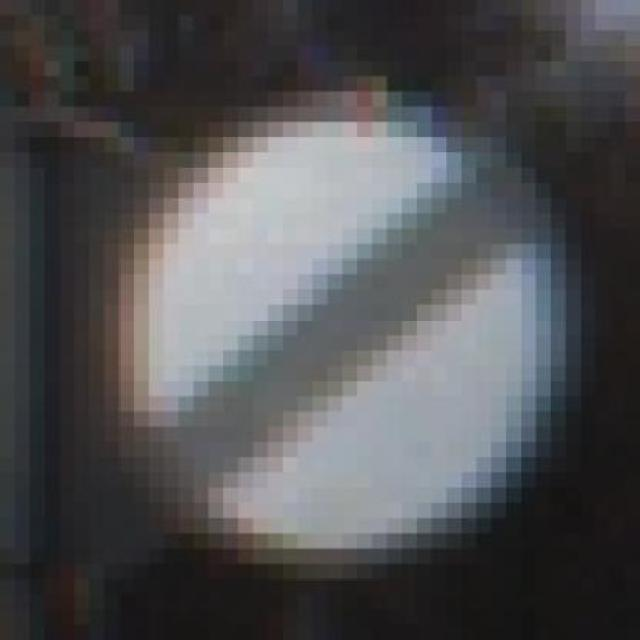End of all speed and passing limits: (104, 91, 581, 564)
